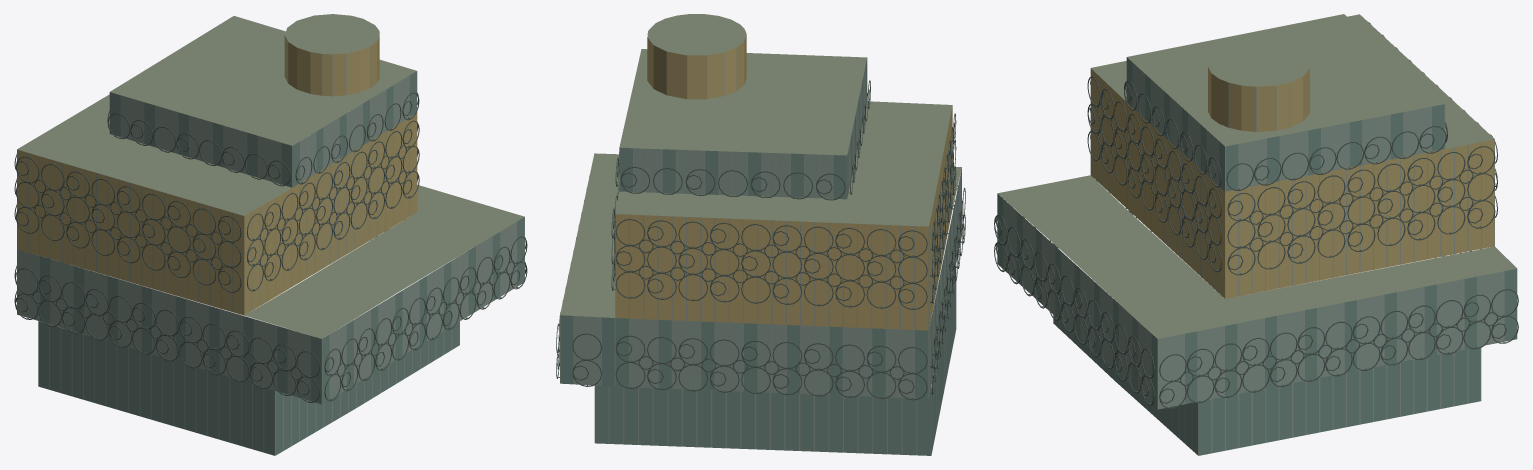
The model's file is library-of-birmingham-near.glb.
3 renders of one model, left to right at view 1: azimuth 30°, elevation 25°; view 2: azimuth 150°, elevation 25°; view 3: azimuth 270°, elevation 25°, orthographic. The views are drawn at different scales.
Parts seen in each view (by area): view 1: library-of-birmingham-0-roof, library-of-birmingham-0-gold, library-of-birmingham-0-glass, library-of-birmingham-0-silver, library-of-birmingham-0-iron, library-of-birmingham-0-frame; view 2: library-of-birmingham-0-roof, library-of-birmingham-0-gold, library-of-birmingham-0-glass, library-of-birmingham-0-silver, library-of-birmingham-0-iron, library-of-birmingham-0-frame; view 3: library-of-birmingham-0-roof, library-of-birmingham-0-gold, library-of-birmingham-0-glass, library-of-birmingham-0-silver, library-of-birmingham-0-iron, library-of-birmingham-0-frame.
Boxes of the visible parts, x1,y1,x2,y2 form: library-of-birmingham-0-roof: (17, 14, 524, 338); library-of-birmingham-0-gold: (17, 36, 416, 315); library-of-birmingham-0-glass: (38, 71, 524, 455); library-of-birmingham-0-silver: (17, 76, 516, 400); library-of-birmingham-0-iron: (14, 92, 527, 402); library-of-birmingham-0-frame: (17, 35, 524, 455); library-of-birmingham-0-roof: (560, 14, 961, 317); library-of-birmingham-0-gold: (615, 35, 952, 330); library-of-birmingham-0-glass: (560, 58, 961, 455); library-of-birmingham-0-silver: (574, 64, 960, 398); library-of-birmingham-0-iron: (556, 80, 965, 400); library-of-birmingham-0-frame: (560, 37, 960, 455); library-of-birmingham-0-roof: (997, 14, 1516, 338); library-of-birmingham-0-gold: (1091, 67, 1494, 298); library-of-birmingham-0-glass: (997, 57, 1516, 455); library-of-birmingham-0-silver: (1004, 63, 1503, 409); library-of-birmingham-0-iron: (994, 22, 1518, 408); library-of-birmingham-0-frame: (997, 57, 1517, 455).
Bounding box in the file's own units: 83.75 × 60 × 84.29.
